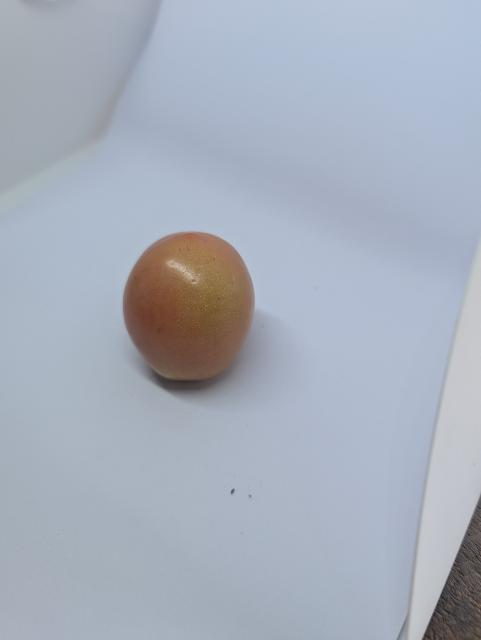turning: (115, 224, 264, 391)
